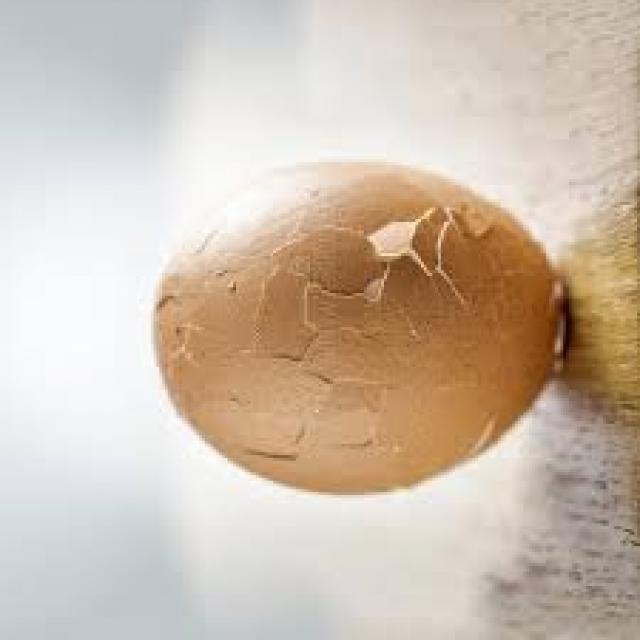biodegradable: (150, 161, 568, 498)
